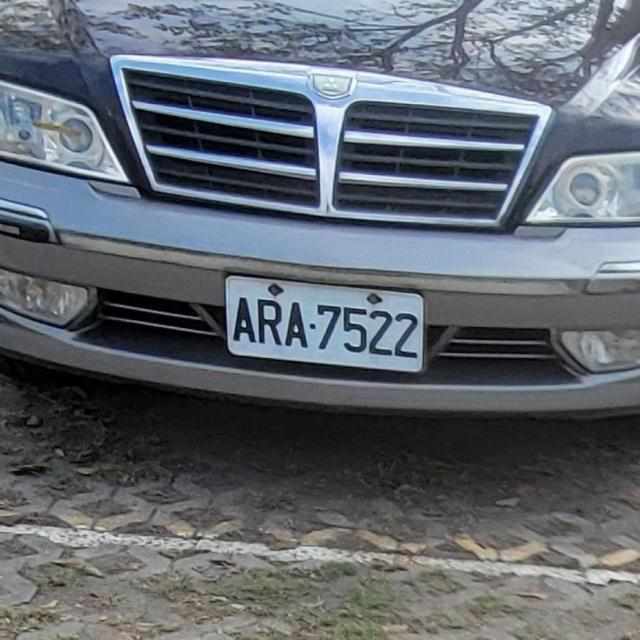W: (205, 251, 441, 395)
